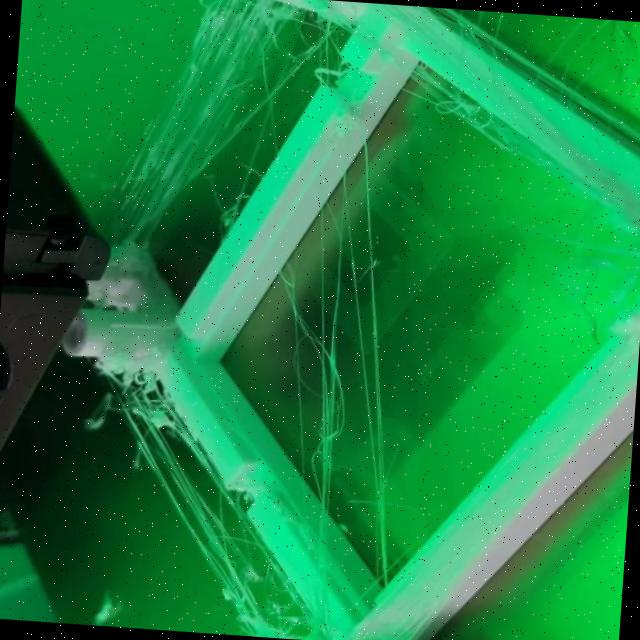stringing: (90, 357, 300, 639), (90, 0, 313, 235), (289, 162, 370, 639), (345, 167, 394, 558), (389, 56, 534, 156)
